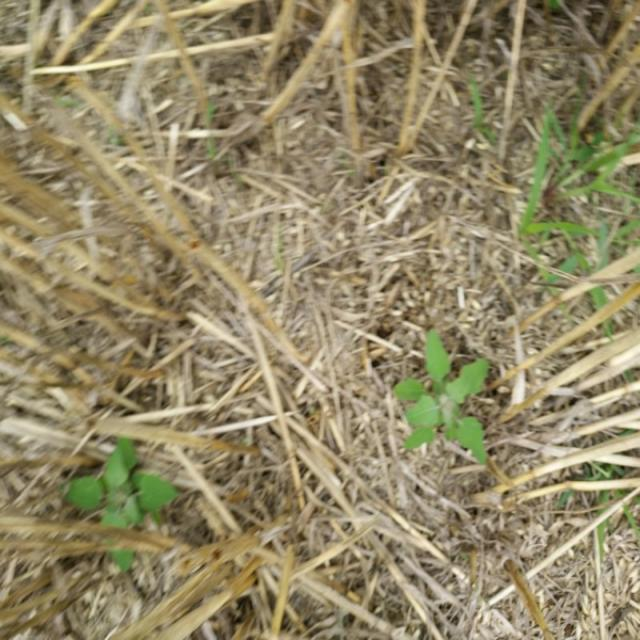ca: (392, 339, 488, 469)
